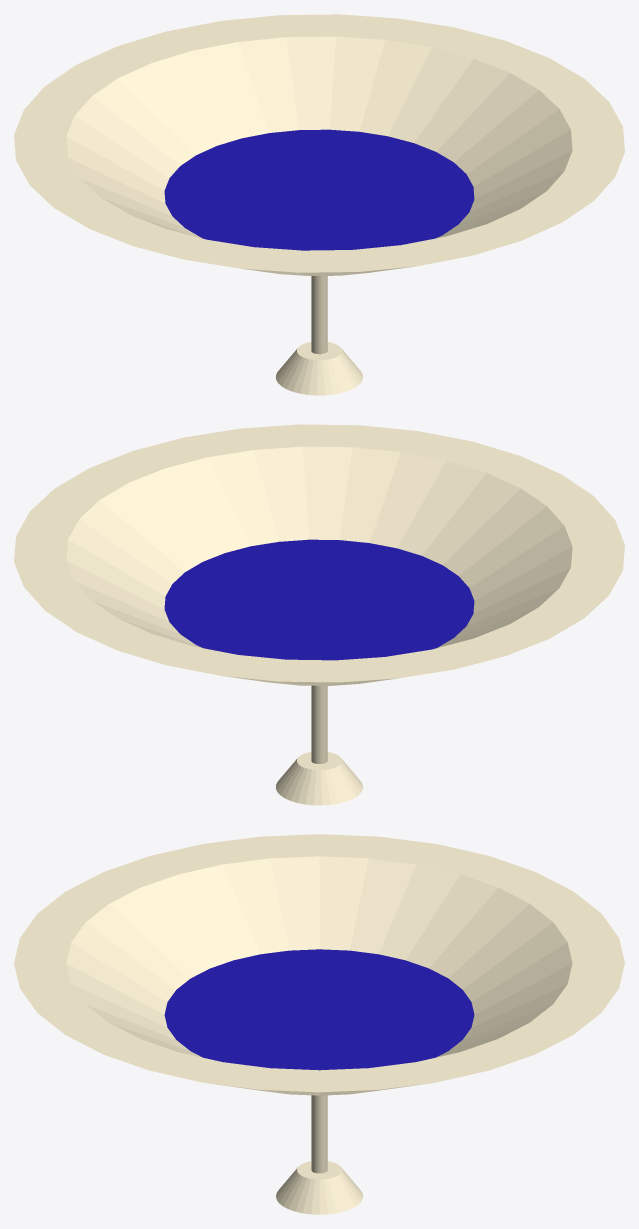
Rendered from birdFountain.fbx.
3 renders of one model, top to bottom at view 1: azimuth 30°, elevation 25°; view 2: azimuth 150°, elevation 25°; view 3: azimuth 270°, elevation 25°, orthographic.
Parts seen in each view (by area): view 1: Cylinder; view 2: Cylinder; view 3: Cylinder.
Boxes of the visible parts, bbox=[...] form: Cylinder: bbox=[14, 14, 624, 395]; Cylinder: bbox=[14, 424, 624, 805]; Cylinder: bbox=[14, 834, 624, 1214].
Bounding box in the file's own units: 2813 × 1185 × 2813.
